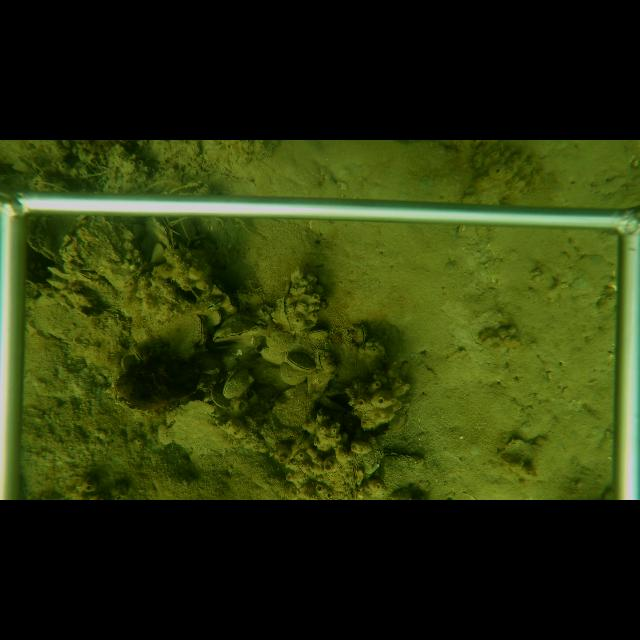Oyster-Closed: (58, 217, 146, 294), (380, 449, 427, 492), (271, 382, 316, 426), (210, 313, 270, 343), (167, 315, 206, 360), (384, 392, 420, 438), (27, 214, 59, 263), (221, 365, 254, 400), (147, 218, 178, 249), (283, 349, 318, 373), (209, 281, 237, 311), (279, 279, 294, 332), (278, 361, 306, 387), (193, 294, 227, 315), (209, 380, 232, 410), (307, 327, 331, 342), (351, 323, 367, 344), (131, 345, 147, 362)
